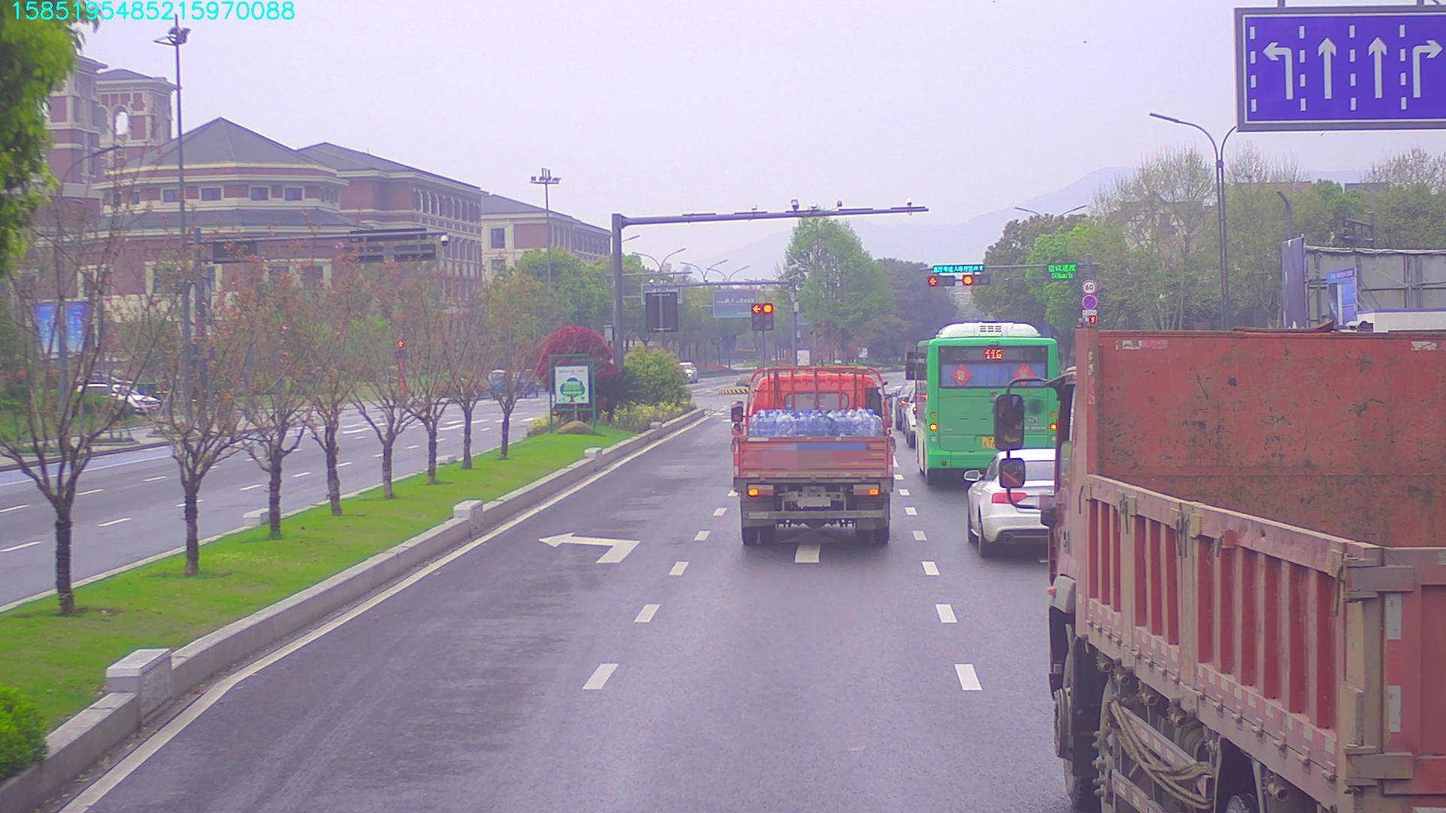red: (923, 273, 954, 286), (963, 271, 987, 286)
wait_on: (931, 262, 984, 270)
